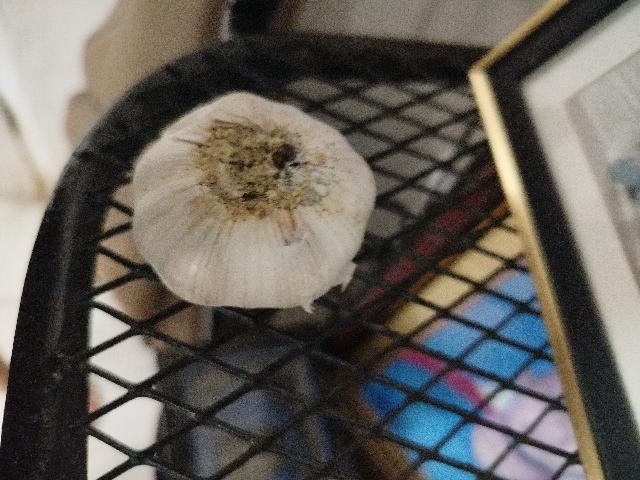garlic: (130, 90, 378, 314)
